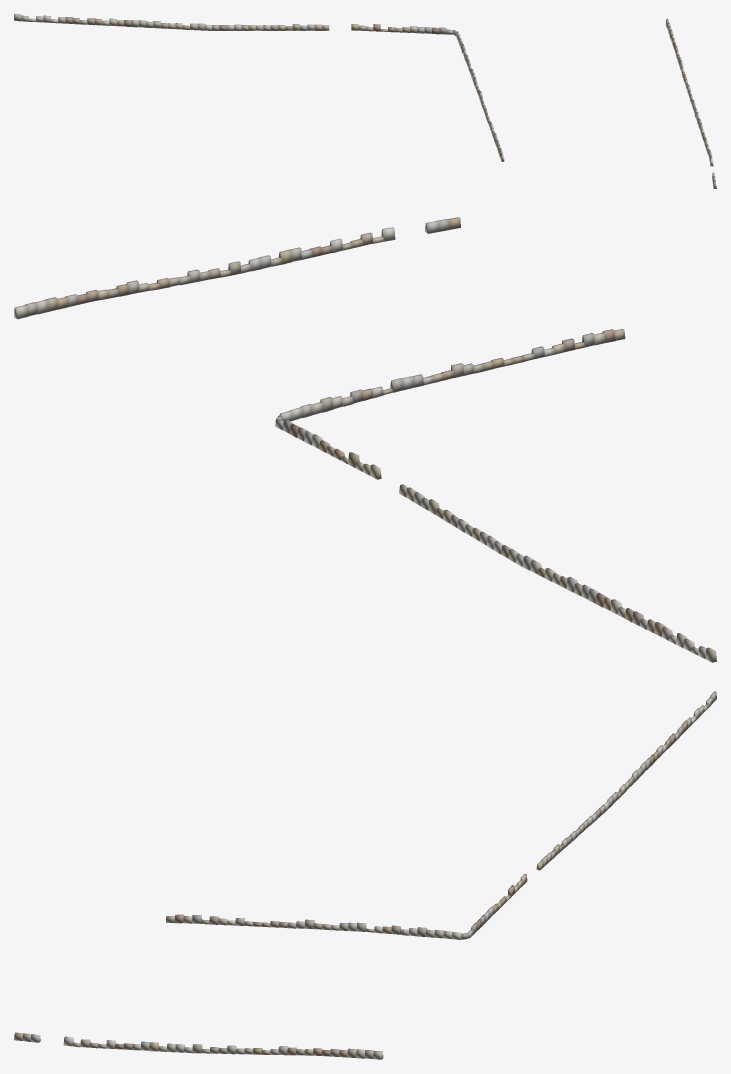
File: farm_0_14_far.glb
The picture shows the model from 3 angles, top to bottom: view 1: azimuth 30°, elevation 25°; view 2: azimuth 150°, elevation 25°; view 3: azimuth 270°, elevation 25°; orthographic projection. The views are drawn at different scales.
Parts seen in each view (by area): view 1: geometry_0; view 2: geometry_0; view 3: geometry_0.
Boxes of the visible parts, x1,y1,x2,y2 form: geometry_0: (14,14,716,188); geometry_0: (14,217,716,662); geometry_0: (14,691,716,1059).
Size of the model in its own units: 131 by 17.4 by 122.
